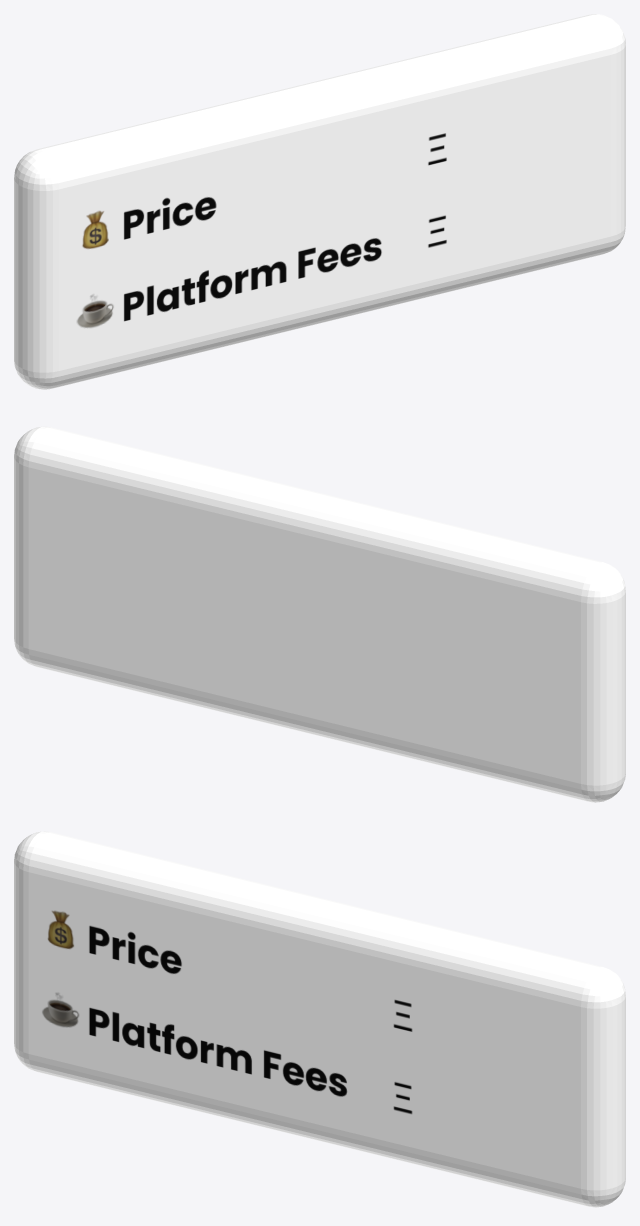
The model's file is mintCard.glb.
3 renders of one model, top to bottom at view 1: azimuth 30°, elevation 25°; view 2: azimuth 150°, elevation 25°; view 3: azimuth 330°, elevation 25°, orthographic.
Parts seen in each view (by area): view 1: card, beforeMint; view 2: card; view 3: card, beforeMint.
Part boxes in pixels (x1,y1,x2,y2): card: (14, 14, 625, 389); beforeMint: (76, 133, 446, 328); card: (14, 426, 625, 802); card: (14, 831, 625, 1207); beforeMint: (42, 910, 412, 1113).
Bounding box in the file's own units: 2.27 × 0.8466 × 0.2119.
Materials: 2 (1 with a texture image).
